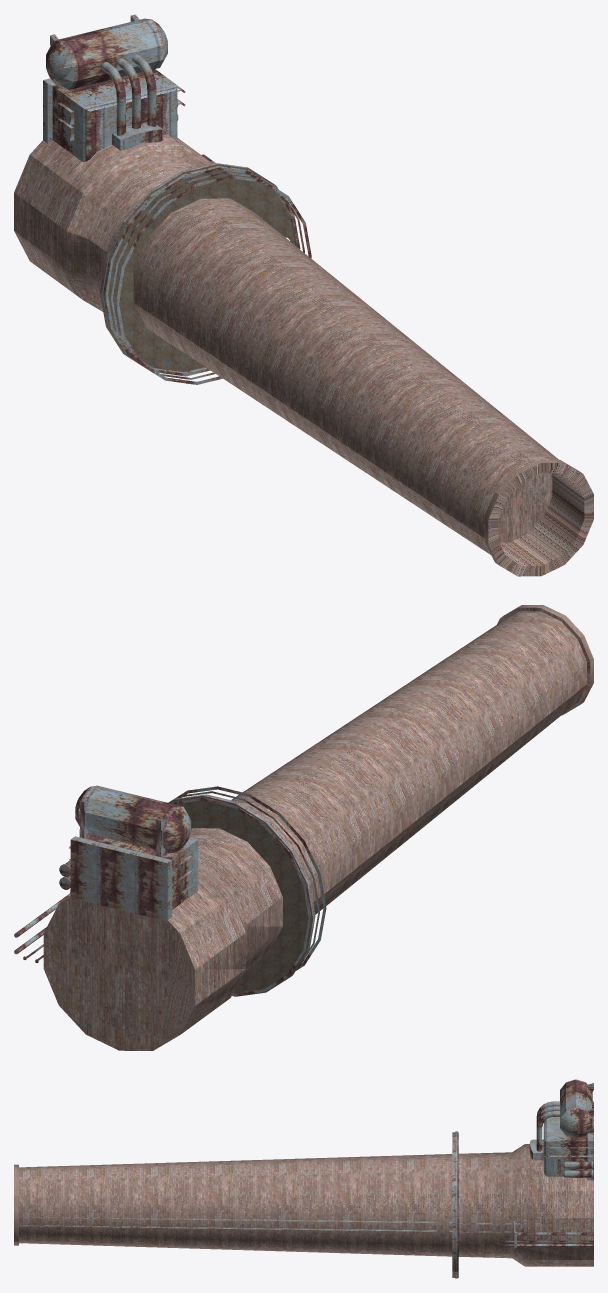
The model's file is heizturm_2_LOD1.obj.
3 renders of one model, top to bottom at view 1: azimuth 30°, elevation 25°; view 2: azimuth 150°, elevation 25°; view 3: azimuth 270°, elevation 25°, orthographic. The views are drawn at different scales.
Parts seen in each view (by area): view 1: MDL_Objec6; view 2: MDL_Objec6; view 3: MDL_Objec6.
Boxes of the visible parts, x1,y1,x2,y2 form: MDL_Objec6: (14,14,593,576); MDL_Objec6: (14,605,593,1050); MDL_Objec6: (14,1079,593,1278).
Bounding box in the file's own units: 14.01 × 17.31 × 51.41.
Materials: 3 (3 with a texture image).
